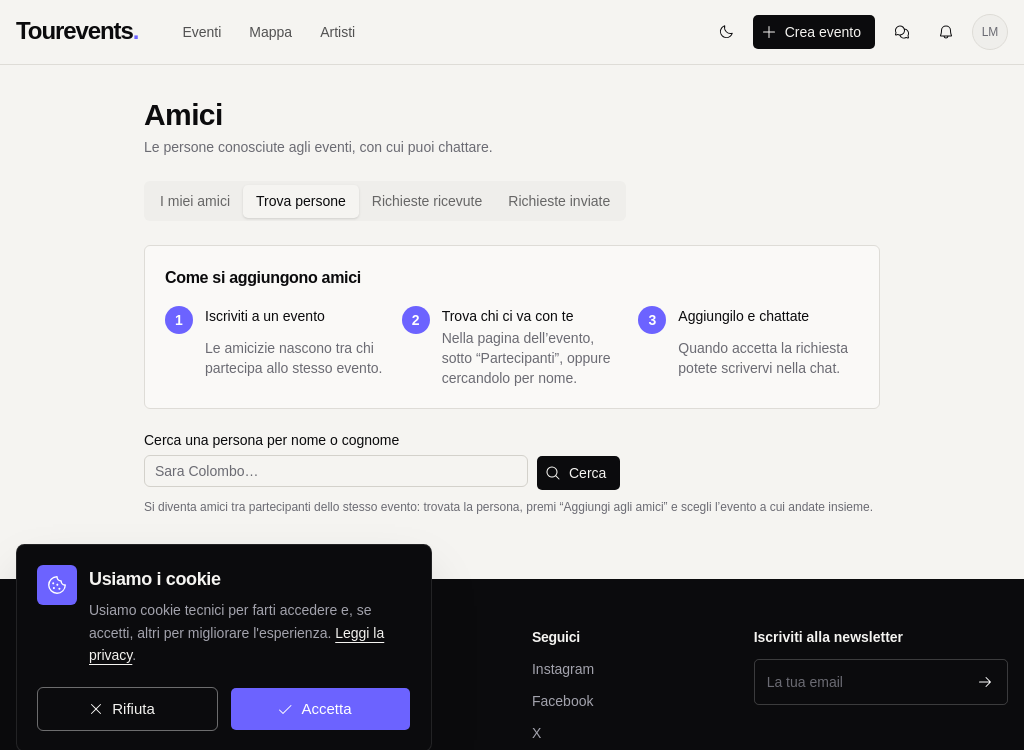
Test: FriendsPage: ricerca utenti › meno di 2 caratteri: avviso, nessuna chiamata
Type "s" into the search field labelled "Cerca una persona per nome o cognome".
click(336, 471); type("s")  # box [144,455,528,487]
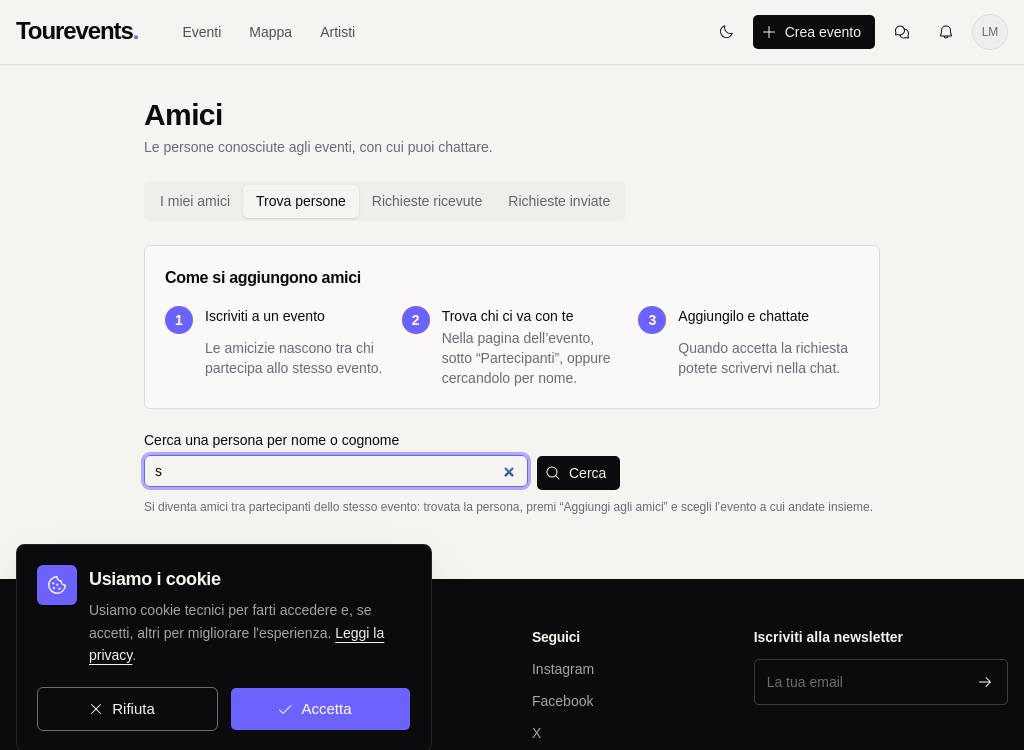
Click the button "Cerca".
click(579, 473)  # box [536,455,621,491]
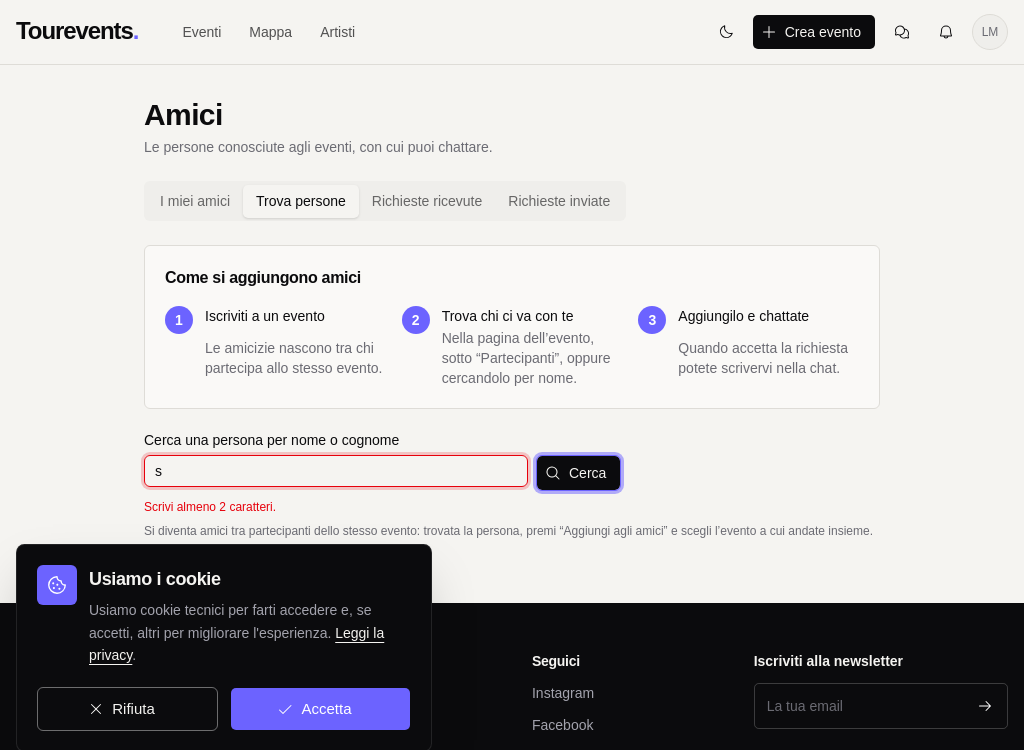
Now the message reads "Scrivi almeno 2 caratteri.", box [144,500,276,514]
